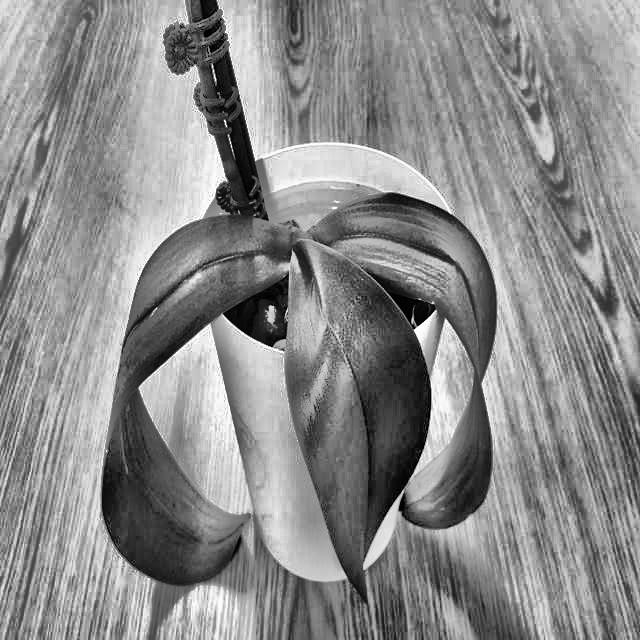plants: (86, 188, 518, 612)
